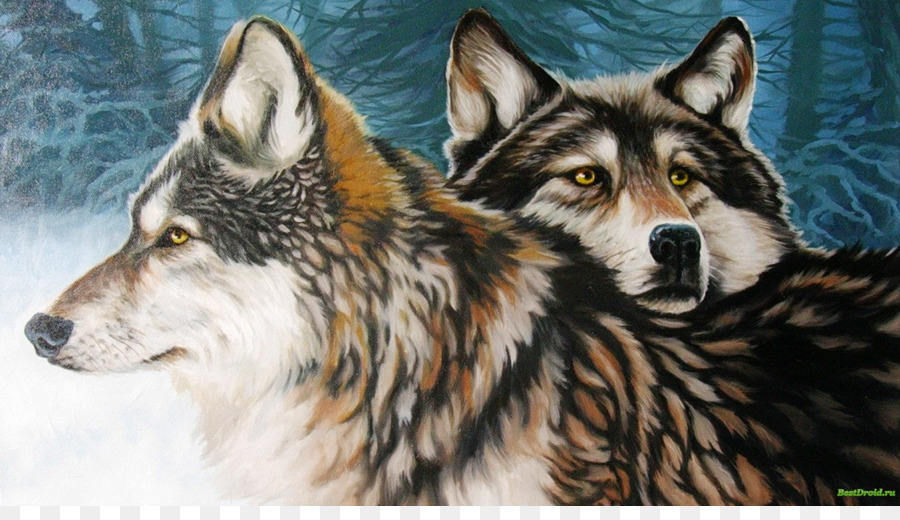Lobo: (12, 24, 428, 494), (418, 4, 828, 323)
